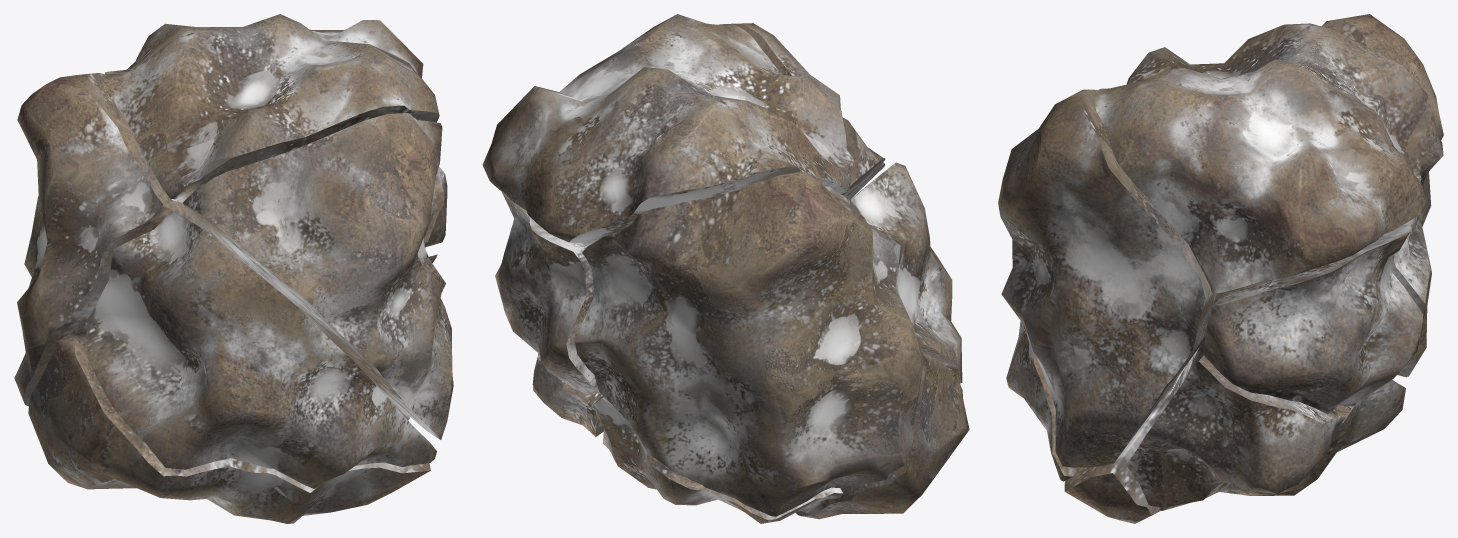
Rendered from SM_MetalNode_6_Pieces.fbx.
3 renders of one model, left to right at view 1: azimuth 30°, elevation 25°; view 2: azimuth 150°, elevation 25°; view 3: azimuth 270°, elevation 25°, orthographic. The views are drawn at different scales.
Parts seen in each view (by area): view 1: SM_MetalNode_6_Pieces_cell_2, SM_MetalNode_6_Pieces_cell_6, SM_MetalNode_6_Pieces_cell_5, SM_MetalNode_6_Pieces_cell_1, SM_MetalNode_6_Pieces_cell_3, SM_MetalNode_6_Pieces_cell_8; view 2: SM_MetalNode_6_Pieces_cell_1, SM_MetalNode_6_Pieces_cell_5, SM_MetalNode_6_Pieces_cell_8, SM_MetalNode_6_Pieces_cell_2, SM_MetalNode_6_Pieces_cell_3, SM_MetalNode_6_Pieces_cell_4, SM_MetalNode_6_Pieces_cell_6, SM_MetalNode_6_Pieces_cell_7; view 3: SM_MetalNode_6_Pieces_cell_5, SM_MetalNode_6_Pieces_cell_6, SM_MetalNode_6_Pieces_cell_8, SM_MetalNode_6_Pieces_cell_7, SM_MetalNode_6_Pieces_cell_1, SM_MetalNode_6_Pieces_cell_3, SM_MetalNode_6_Pieces_cell_4, SM_MetalNode_6_Pieces_cell_2.
Boxes of the visible parts, x1,y1,x2,y2 form: SM_MetalNode_6_Pieces_cell_2: (84,210,436,488); SM_MetalNode_6_Pieces_cell_6: (183,113,453,439); SM_MetalNode_6_Pieces_cell_5: (101,14,439,202); SM_MetalNode_6_Pieces_cell_1: (14,73,209,406); SM_MetalNode_6_Pieces_cell_3: (28,332,430,523); SM_MetalNode_6_Pieces_cell_8: (424,167,447,247); SM_MetalNode_6_Pieces_cell_1: (574,172,924,516); SM_MetalNode_6_Pieces_cell_5: (482,14,853,243); SM_MetalNode_6_Pieces_cell_8: (495,192,597,395); SM_MetalNode_6_Pieces_cell_2: (850,162,962,382); SM_MetalNode_6_Pieces_cell_3: (795,352,969,519); SM_MetalNode_6_Pieces_cell_4: (594,395,843,523); SM_MetalNode_6_Pieces_cell_6: (719,23,885,199); SM_MetalNode_6_Pieces_cell_7: (532,353,603,436); SM_MetalNode_6_Pieces_cell_5: (1093,23,1428,293); SM_MetalNode_6_Pieces_cell_6: (998,89,1224,467); SM_MetalNode_6_Pieces_cell_8: (1202,224,1423,414); SM_MetalNode_6_Pieces_cell_7: (1126,355,1350,508); SM_MetalNode_6_Pieces_cell_1: (1322,14,1443,377); SM_MetalNode_6_Pieces_cell_3: (1064,347,1199,523); SM_MetalNode_6_Pieces_cell_4: (1159,340,1405,510); SM_MetalNode_6_Pieces_cell_2: (1006,321,1080,481).
Size of the model in its own units: 0.8899 by 0.9041 by 0.7987.
